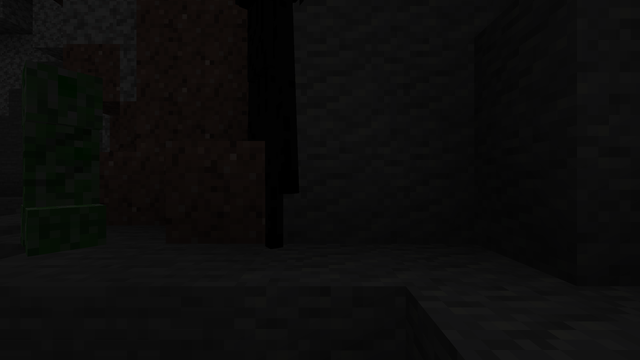creepers: (10, 53, 117, 251)
endermens: (226, 9, 301, 251)
